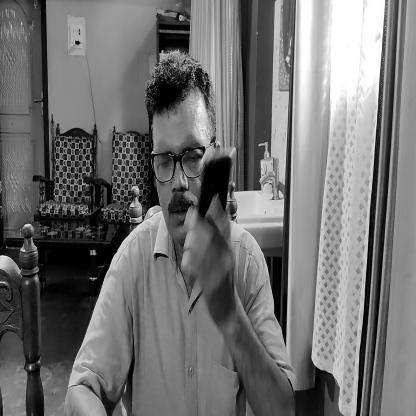Normal: (148, 63, 204, 223)
